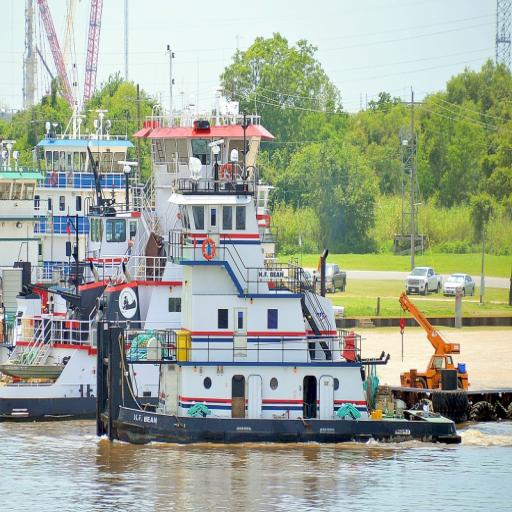tugboat: (92, 135, 467, 461)
